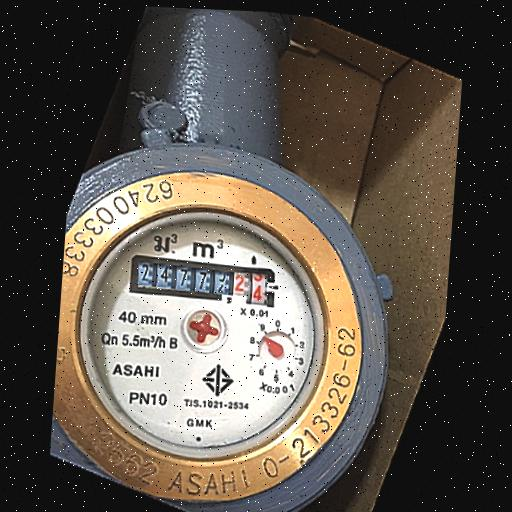2: (137, 262, 153, 288), (234, 272, 248, 297)
4: (251, 272, 266, 303), (157, 264, 173, 289)
5: (215, 272, 230, 295)
7: (177, 267, 192, 292), (195, 269, 211, 292)
border_water_meter_number: (129, 252, 278, 311)
